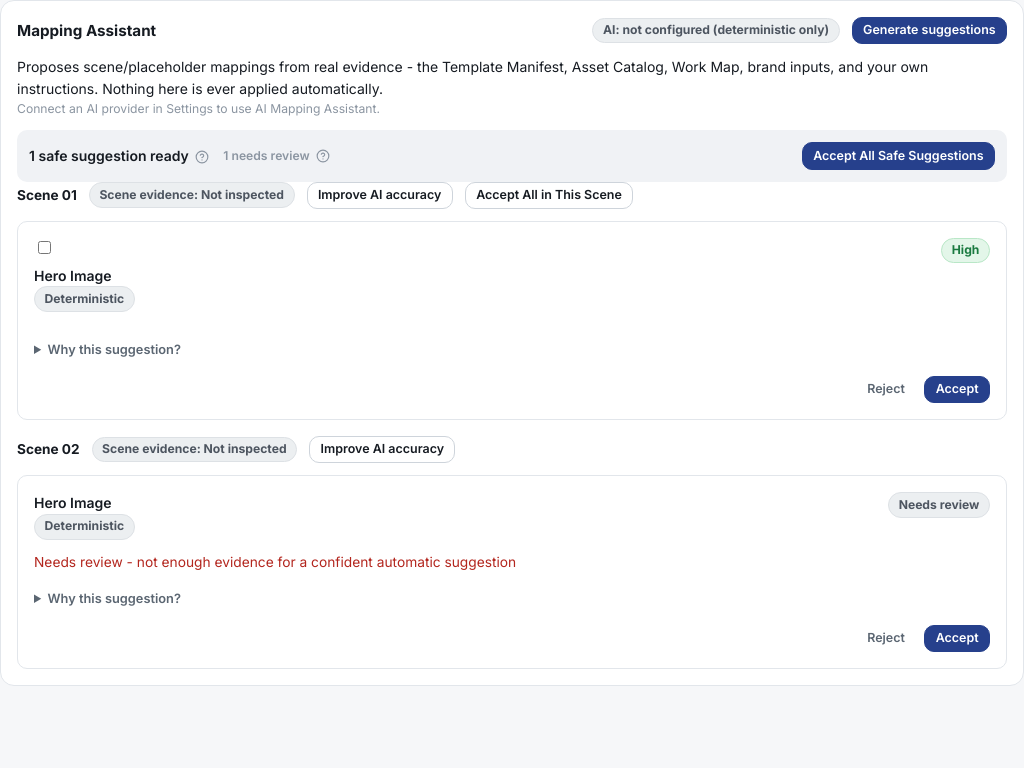
Test: MappingAssistantPanel - bulk accept › "Accept All in This Scene" only appears when that scene has a real safe suggestion, and scopes the confirmation to that scene alone
Expected: the heading "Scene 01" is shown, [17,185,77,206]
Expected: the heading "Scene 02" is shown, [17,439,80,460]
Click the button "Accept All in This Scene".
click(549, 195)  # box [465,182,633,209]
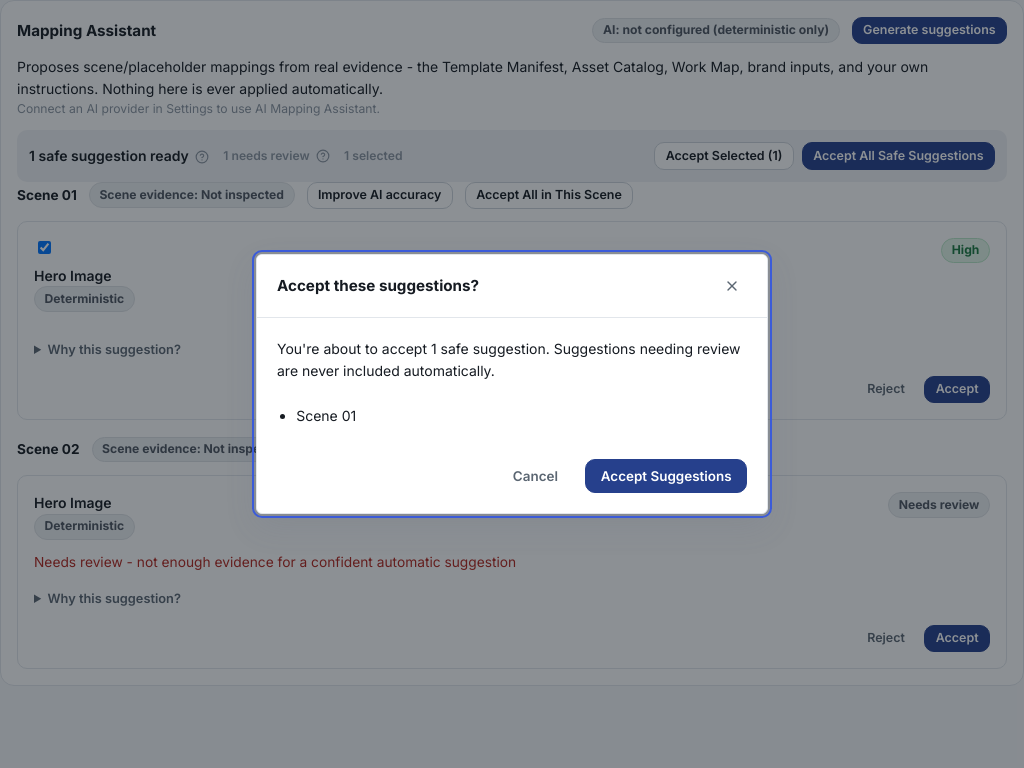
Result: the text "Accept these suggestions?" is shown at [277,274,479,298]
Result: the text "You're about to accept 1 safe suggestion. Suggestions needing review are never included automatically." is shown at [277,340,741,379]
